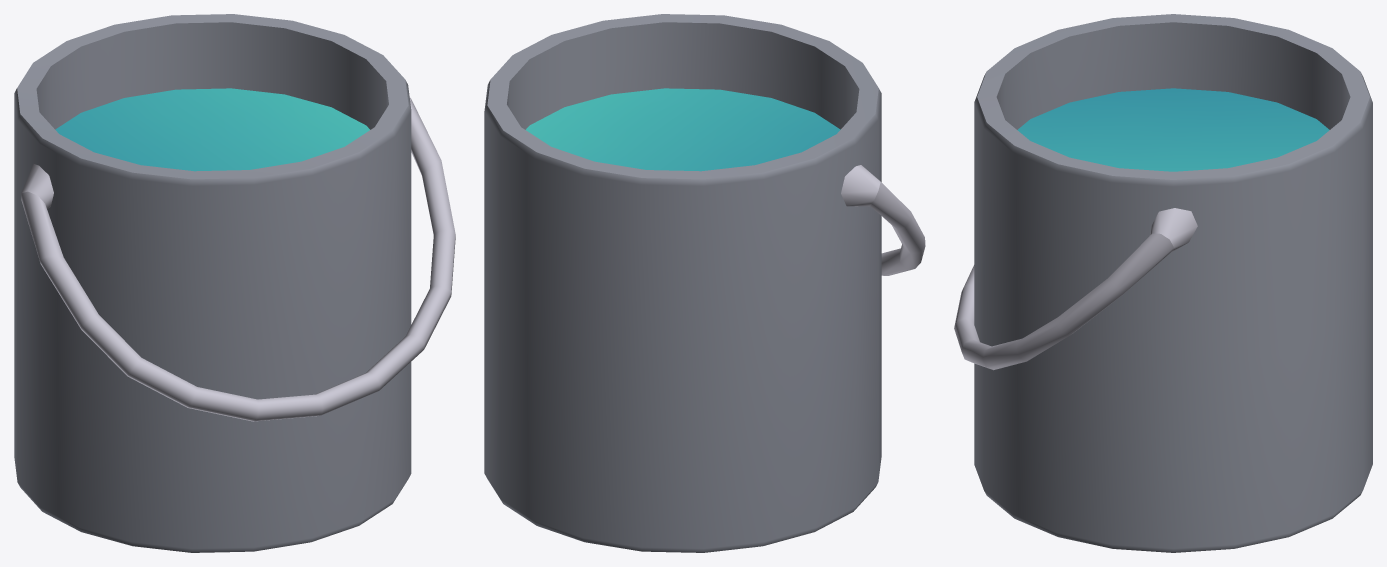
The model's file is Color Can.fbx.
3 views of the same model, side by side, from view 1: azimuth 30°, elevation 25°; view 2: azimuth 150°, elevation 25°; view 3: azimuth 270°, elevation 25° (orthographic).
Visible parts, largest first — view 1: Color_Can; view 2: Color_Can; view 3: Color_Can.
Boxes of the visible parts, x1,y1,x2,y2 form: Color_Can: (14, 14, 455, 552); Color_Can: (484, 14, 925, 552); Color_Can: (954, 14, 1372, 552).
Size of the model in its own units: 44.63 by 39.64 by 40.35.
Materials: 1 (1 with a texture image).
